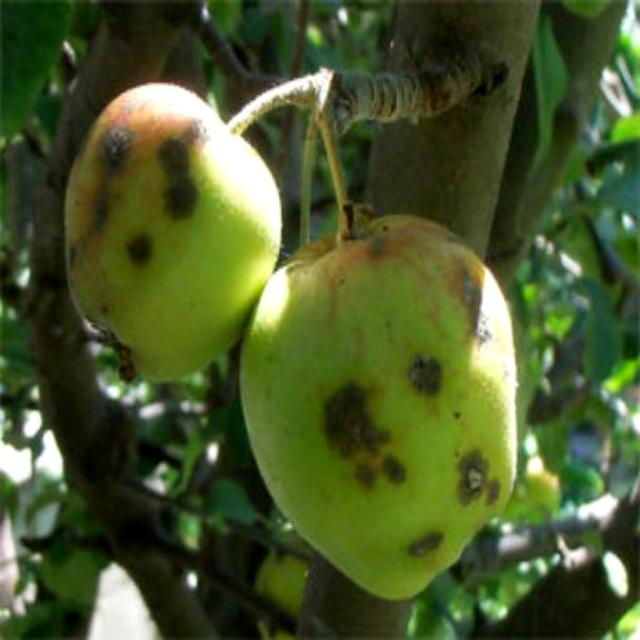SCAB: (255, 204, 527, 606), (43, 56, 251, 377)
